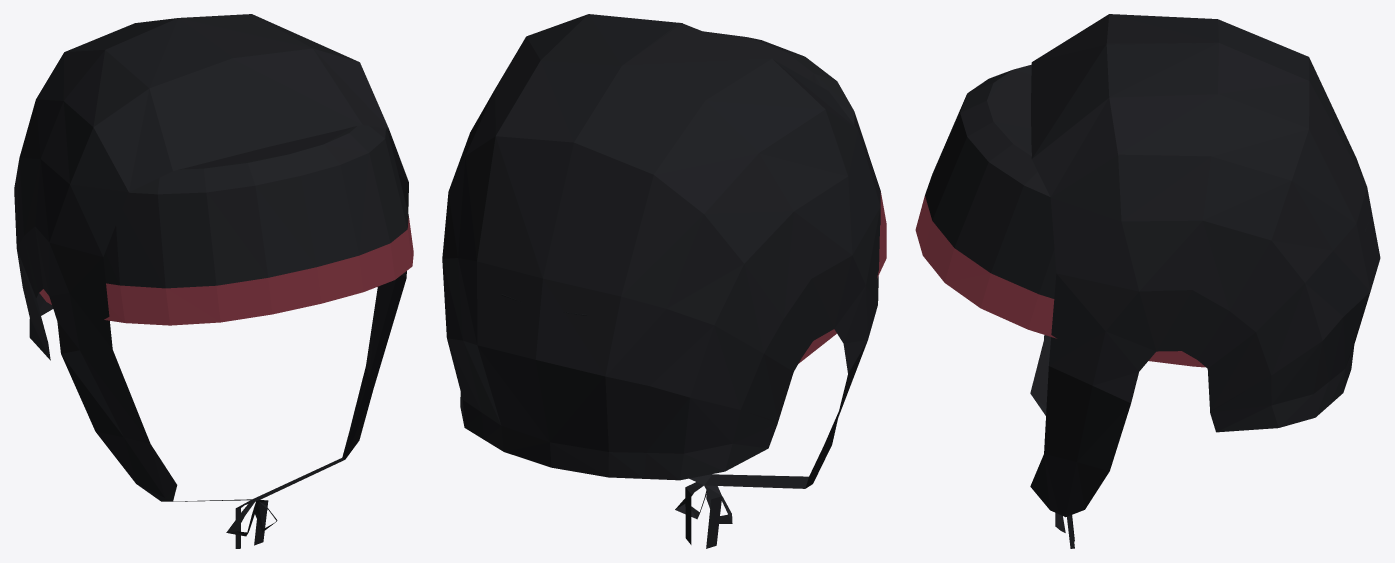
Rendered from hanDynastyWarriorHatSimpleFemale.glb.
3 renders of one model, left to right at view 1: azimuth 30°, elevation 25°; view 2: azimuth 150°, elevation 25°; view 3: azimuth 270°, elevation 25°, orthographic. The views are drawn at different scales.
Visible parts, largest first — view 1: hanDynastyWarriorHatSimple; view 2: hanDynastyWarriorHatSimple; view 3: hanDynastyWarriorHatSimple.
Part boxes in pixels (x1,y1,x2,y2): hanDynastyWarriorHatSimple: (14, 14, 413, 548); hanDynastyWarriorHatSimple: (442, 14, 886, 548); hanDynastyWarriorHatSimple: (915, 14, 1380, 548).
Bounding box in the file's own units: 0.2832 × 0.3884 × 0.3259.
